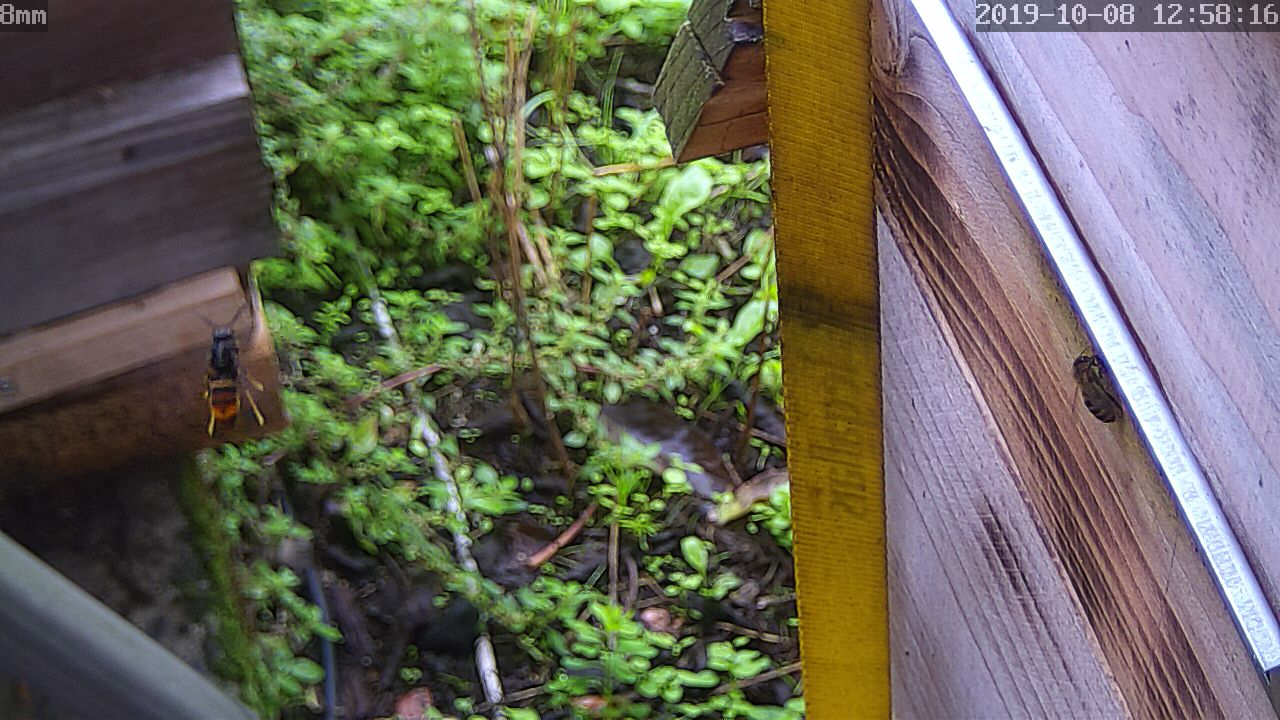bee: (1060, 339, 1128, 428)
hornet: (182, 316, 273, 438)
